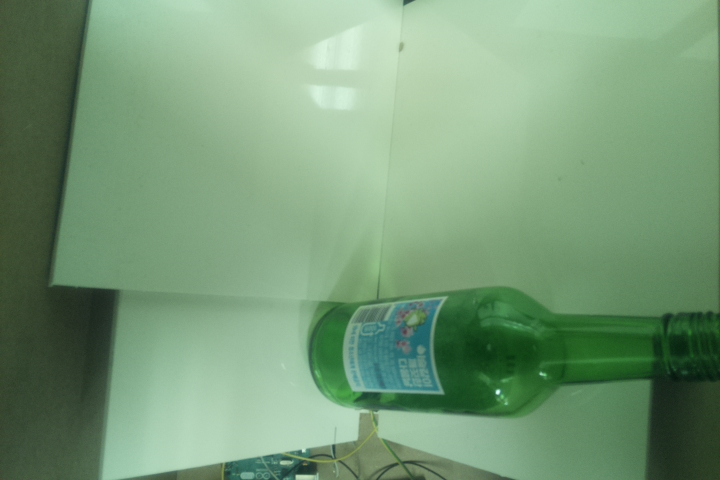soju: (306, 285, 720, 418)
